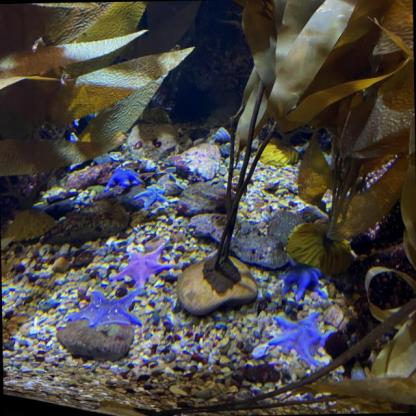starfish: (267, 309, 332, 370), (65, 288, 147, 330), (112, 243, 175, 290), (280, 258, 332, 304), (106, 164, 145, 192), (136, 184, 171, 209)
